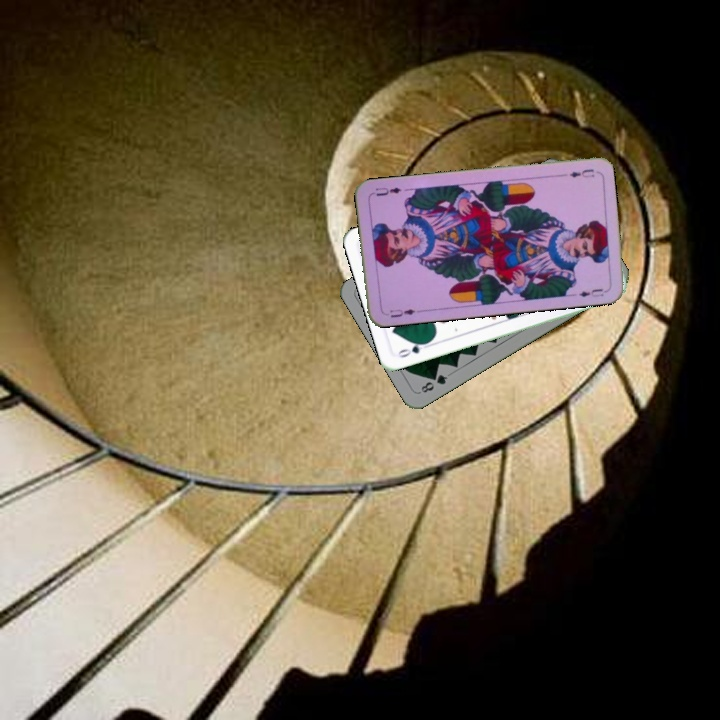EU: (382, 305, 418, 320), (565, 165, 597, 180)
G8: (416, 370, 450, 396)
GO: (393, 337, 433, 360)
